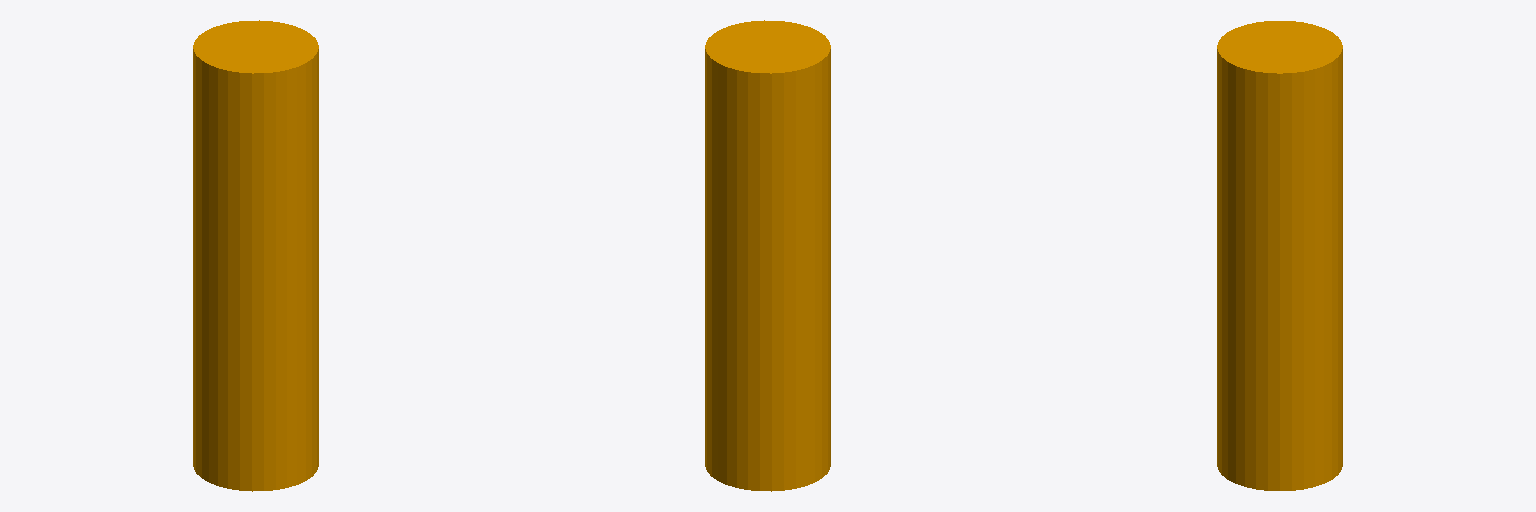
The robot description file, URDF, robot "can_2_small":
<?xml version="1.0"?>
<robot name="can_2_small">
	<link name="base">
	<inertial>
        	 <origin xyz="0 0 0.07" rpy="0 0 0"/>
        	 <mass value="0.05"/>
        	 <inertia ixx="0.000683333"  ixy="0"  ixz="0" iyy="0.000683333" iyz="0" izz="0.000683333" />
       </inertial>
	<visual>
                <origin xyz="0.0 0.0 0.07" rpy="0 0 0" />
                <!--origin xyz="0.0 0.0 0.055" rpy="0 0 0" /-->
		<geometry>
                         <!--<mesh filename="can/cokecan2.dae" scale="0.0254 0.0254 0.0254"/>-->
           <cylinder length="0.11" radius="0.015"/>
      		</geometry>
		<!--material>
                    <color rgba="0 0 1 1" />
		</material-->
		</visual>
  	 <collision>
		<!--origin xyz="0.0 0.0 -0.00255" rpy="0 0 0"/-->
		<origin xyz="0.0 0.0 0.08" rpy="0 0 0"/>
            <geometry>
       			 <!--mesh filename="can/cokecan.dae"  scale="0.0254 0.0254 0.0254"/-->
                        <cylinder length="0.11" radius="0.015"/>
            </geometry>
	    <material>
			<color rgba="0 0 1 1" />
	    </material>
        </collision>
	</link>
</robot>

--- Facts derived from the render (not from the file) ---
Views: 3 orthographic renders of the robot side by side, from view 1: azimuth 30°, elevation 25°; view 2: azimuth 150°, elevation 25°; view 3: azimuth 270°, elevation 25°.
Model can_2_small with 1 links and 0 joints (none), rooted at base, posed every joint at zero.
Links seen in each view (by area): view 1: base; view 2: base; view 3: base.
Boxes of the visible links, bbox=[...] form: base: bbox=[193, 20, 318, 491]; base: bbox=[705, 20, 830, 491]; base: bbox=[1217, 21, 1342, 490].
Bounding box of the posed robot: 0.03 × 0.03 × 0.11 m (x, y, z).
Geometry: primitives only (box / cylinder / sphere), no mesh files.
